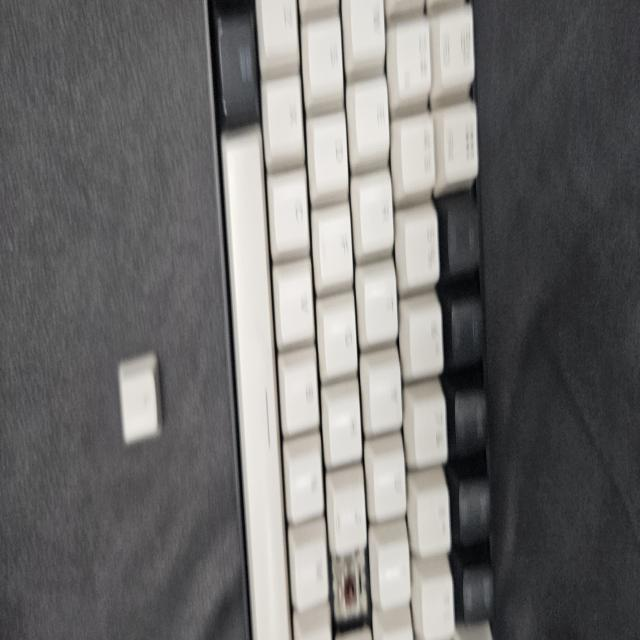C: (339, 565, 361, 623)
